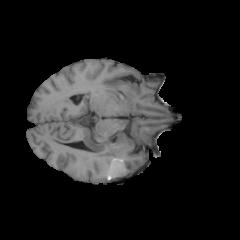glioma: (86, 134, 135, 182)
